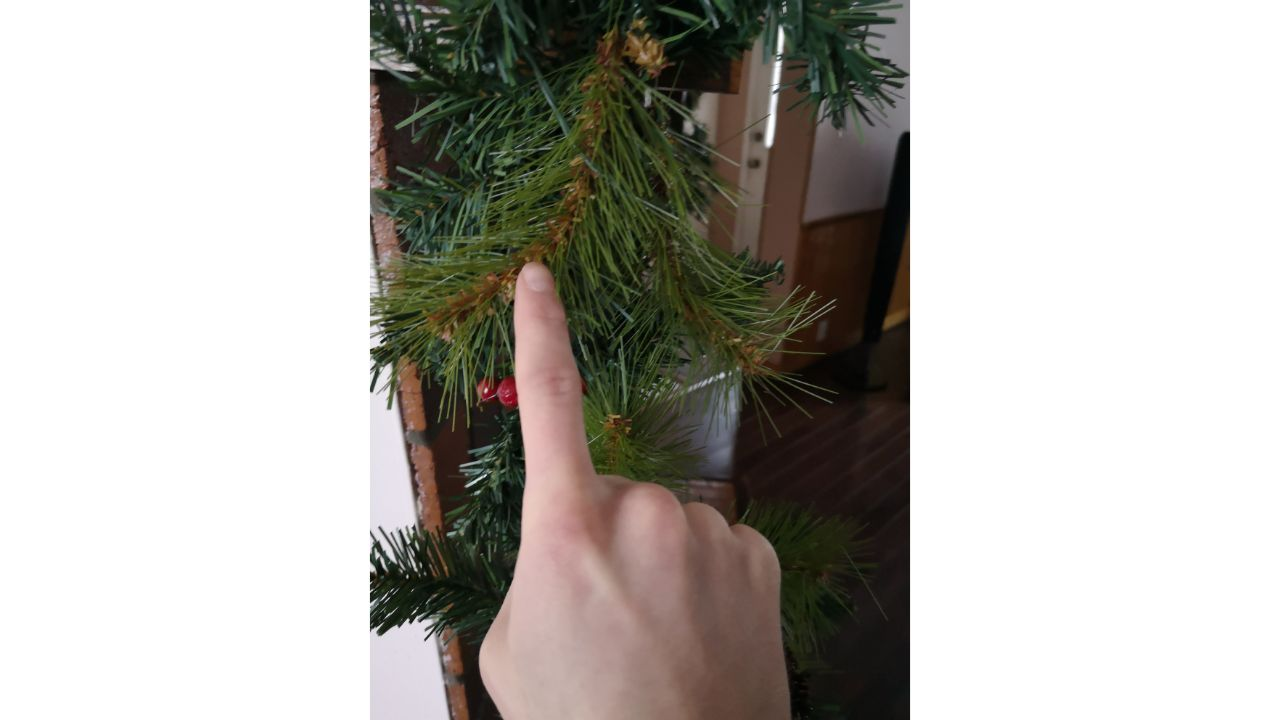finger: (477, 256, 803, 720)
